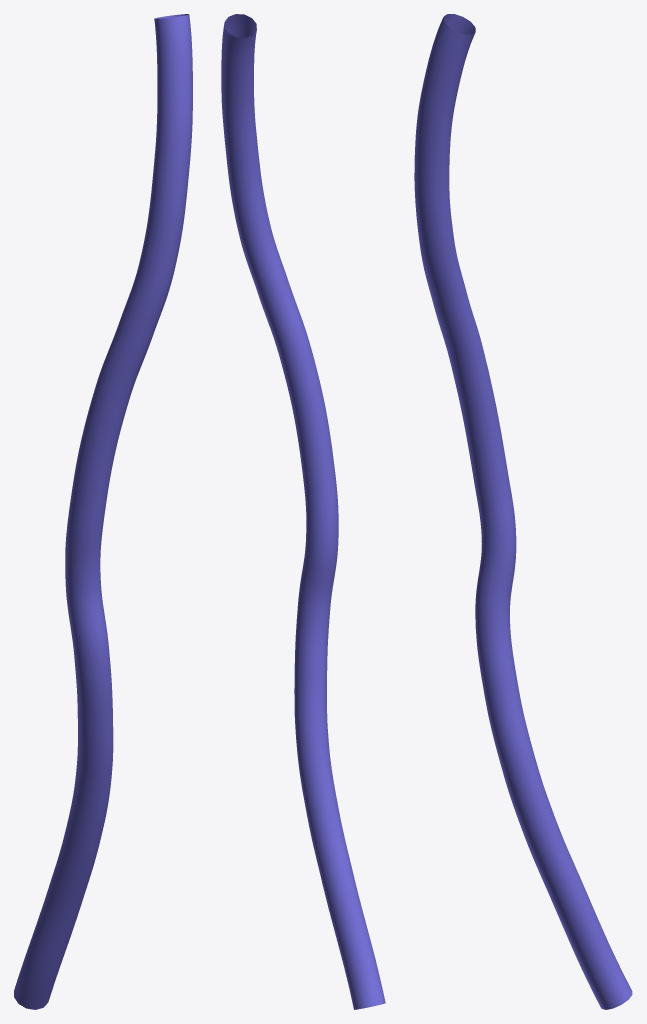
Rendered from Femoral_vein.r_BezierCurve.208.glb.
The picture shows the model from 3 angles, left to right: view 1: azimuth 30°, elevation 25°; view 2: azimuth 210°, elevation 25°; view 3: azimuth 270°, elevation 25°; orthographic projection. The views are drawn at different scales.
Parts seen in each view (by area): view 1: Femoral_vein.r_BezierCurve.208; view 2: Femoral_vein.r_BezierCurve.208; view 3: Femoral_vein.r_BezierCurve.208.
Part boxes in pixels (<box>): Femoral_vein.r_BezierCurve.208: <box>14,14,192,1009</box>; Femoral_vein.r_BezierCurve.208: <box>221,14,385,1009</box>; Femoral_vein.r_BezierCurve.208: <box>414,14,632,1009</box>.
Bounding box in the file's own units: 0.032 × 0.3148 × 0.0611.
